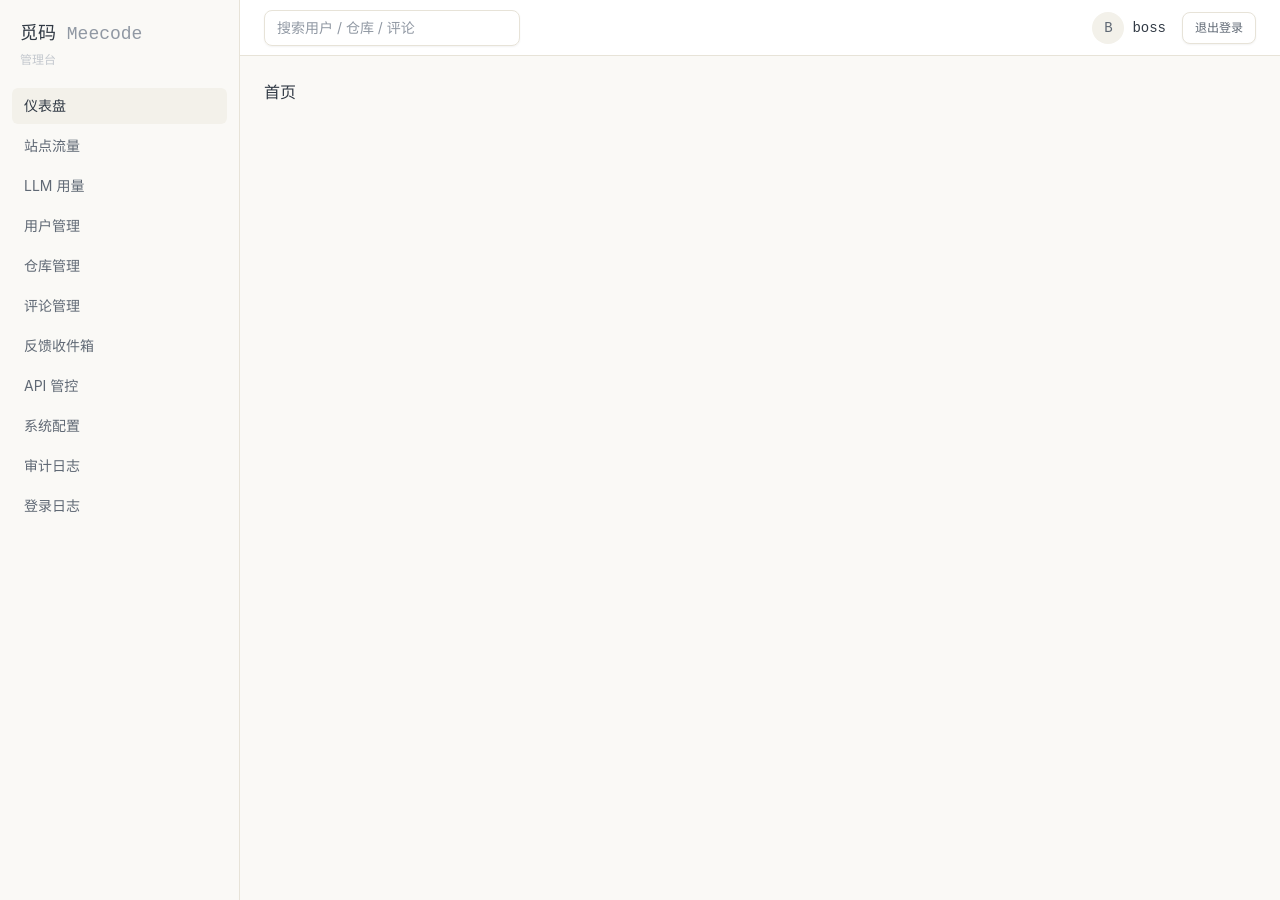
it: AppLayout · 菜单 › 搜索框 Enter 跳转 /search?q=
Type "meecode" into the field named "全局搜索" at x=392, y=28, box [264,10,520,46]
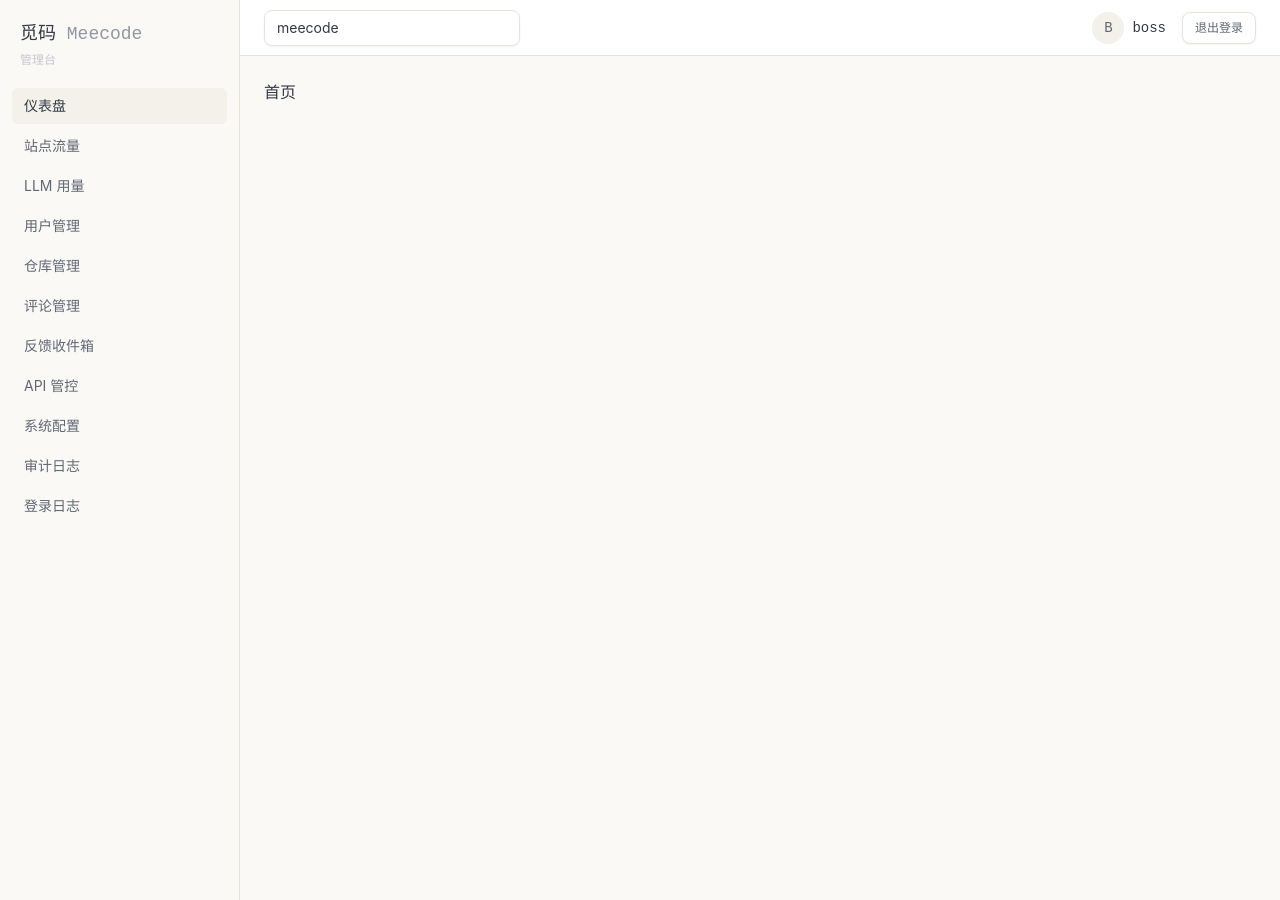
Submit the form named "全局搜索", box [264,10,520,46]
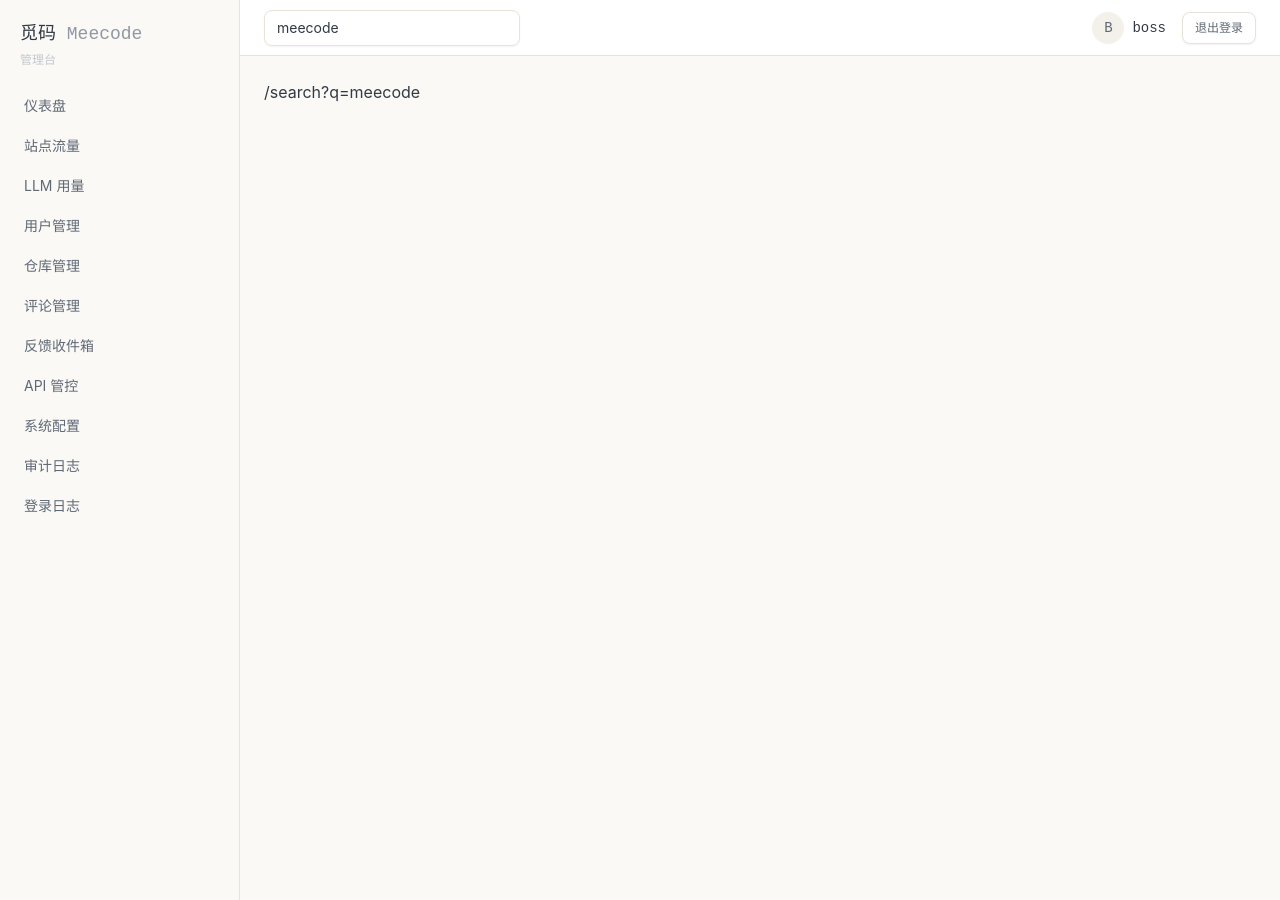
Expected: the text "/search?q=meecode" is shown, [264,82,420,102]
